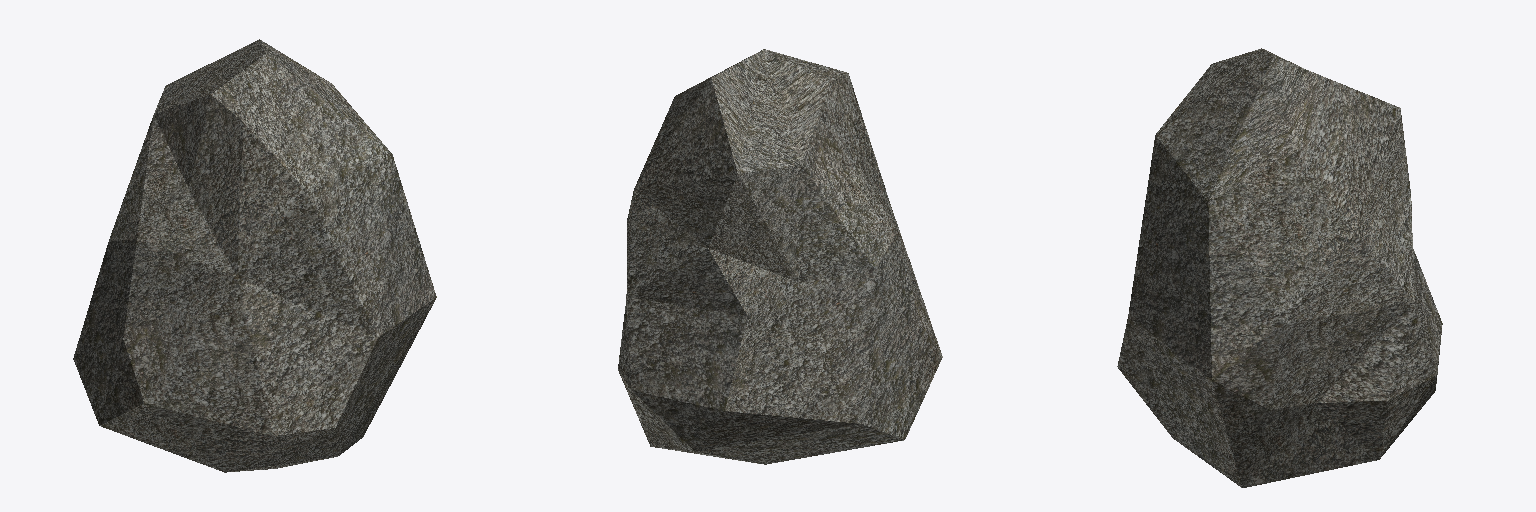
3 renders of one model, left to right at view 1: azimuth 30°, elevation 25°; view 2: azimuth 150°, elevation 25°; view 3: azimuth 270°, elevation 25°, orthographic.
Parts seen in each view (by area): view 1: eggy64_Cube.001; view 2: eggy64_Cube.001; view 3: eggy64_Cube.001.
Boxes of the visible parts, box(x1,y1,x2,y2) form: eggy64_Cube.001: box(73, 39, 436, 472); eggy64_Cube.001: box(618, 49, 942, 464); eggy64_Cube.001: box(1117, 48, 1442, 487).
Size of the model in its own units: 2.46 by 3.25 by 2.36.
Materials: 1 (1 with a texture image).